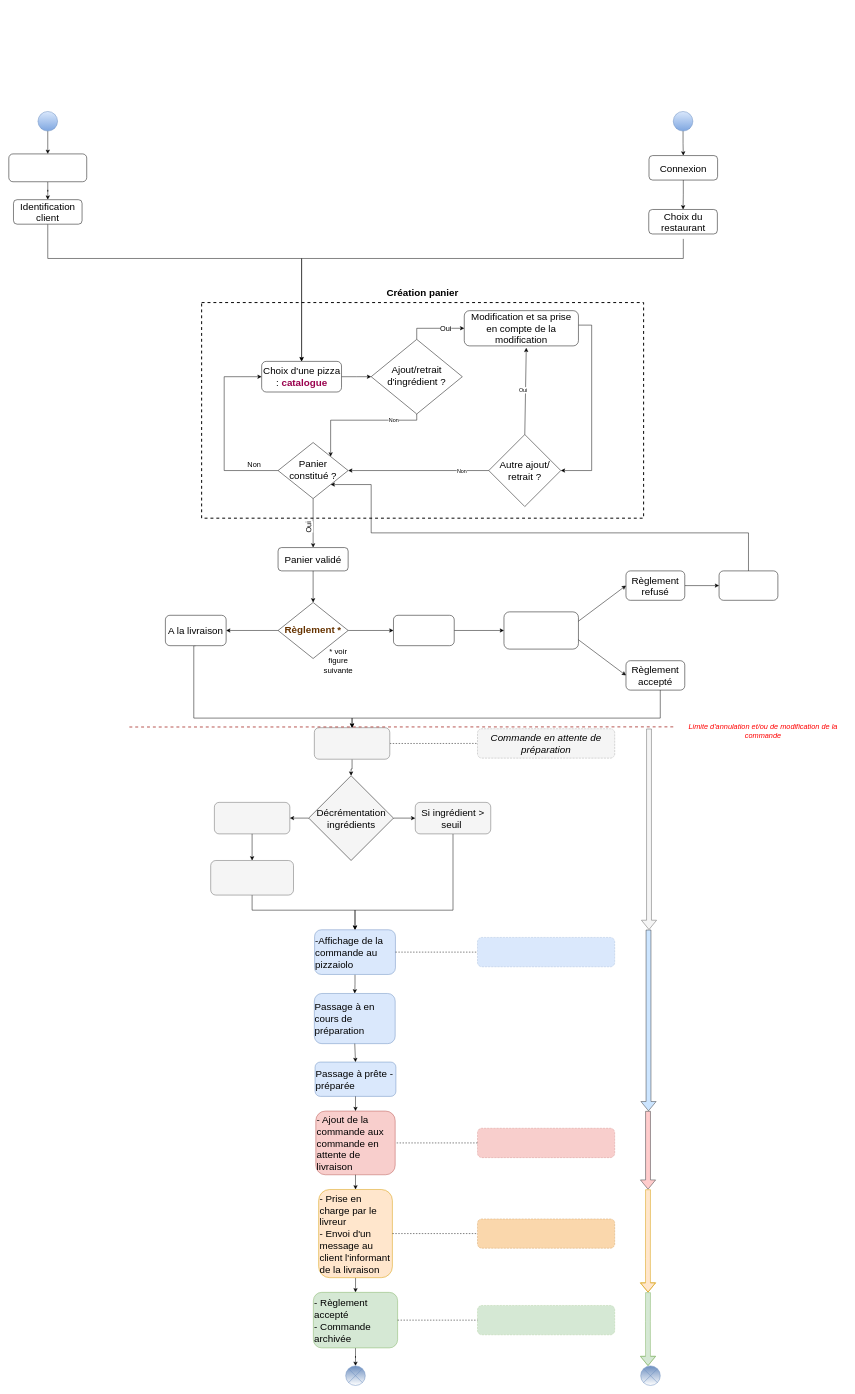
This 855x1394 diagram has some shape labels left out. The centre of each missing label's shape, as x and y in pixels:
Authentification hôte de caisse: point 47,167
Commande annulée: point 748,585
Commande en attente de livraison: point 546,1143
Commande en cours de livraison: point 546,1233
Commande en préparation: point 546,952
En ligne: point 423,630
Génération du QR Code unique: point 352,743
La commande est archivée: point 546,1320
Mise en relation avec le site bancaire: point 540,630
Mise à jour disponibilité des pizzas: point 252,877
Si ingrédient < seuil: point 252,818
